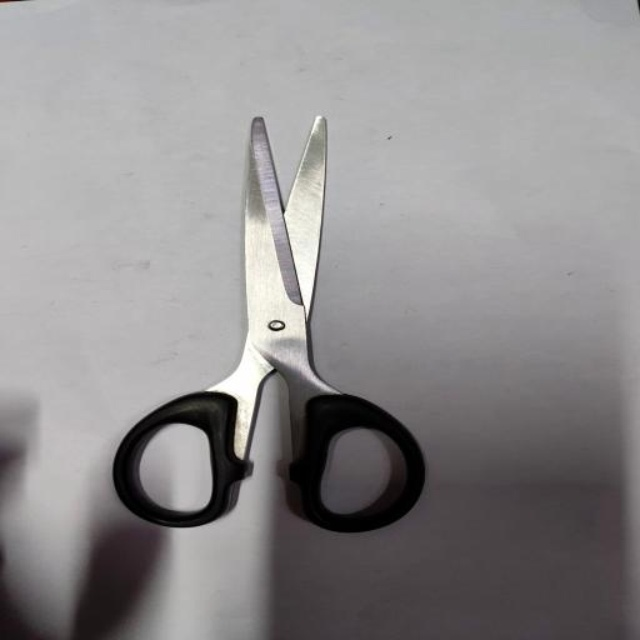scissor: (105, 111, 437, 537)
